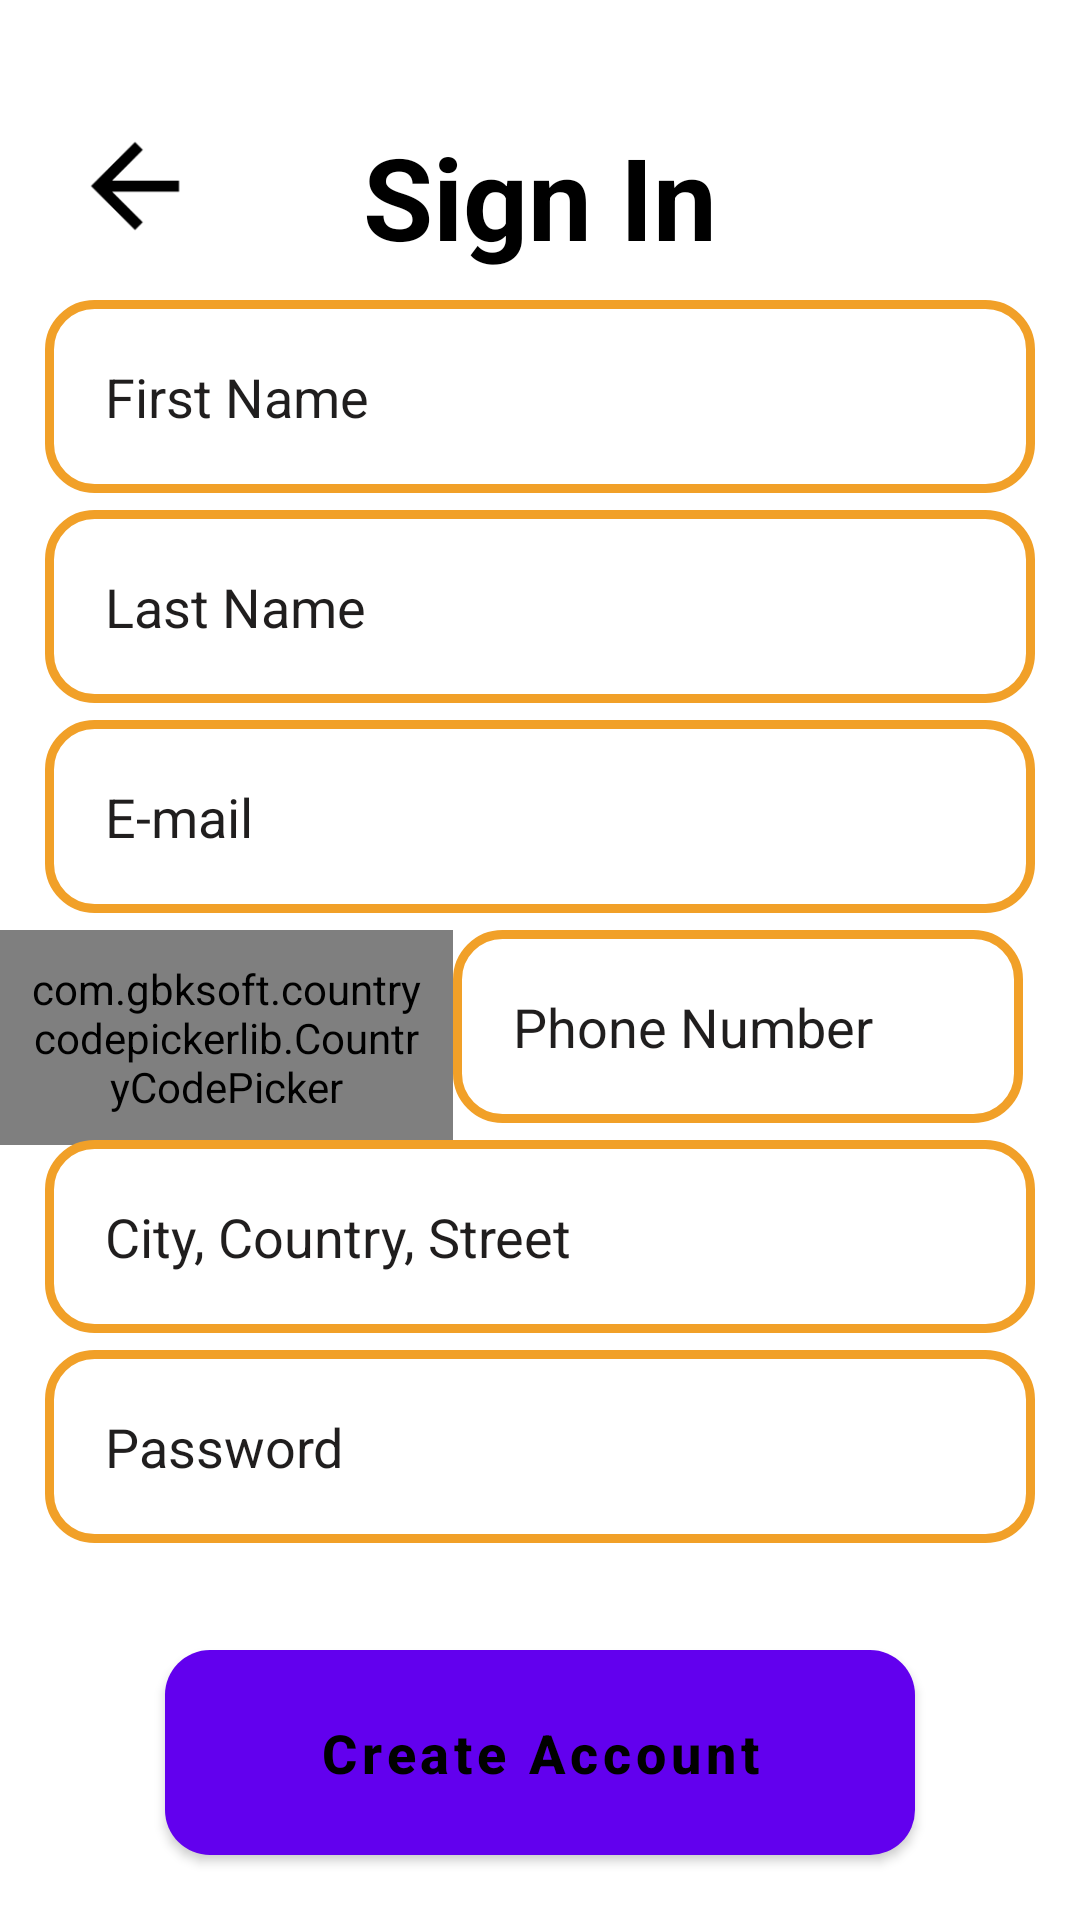

Icon click points for this 1080px×1920px phone screenshot, format [x,y]:
back: [135,186]
